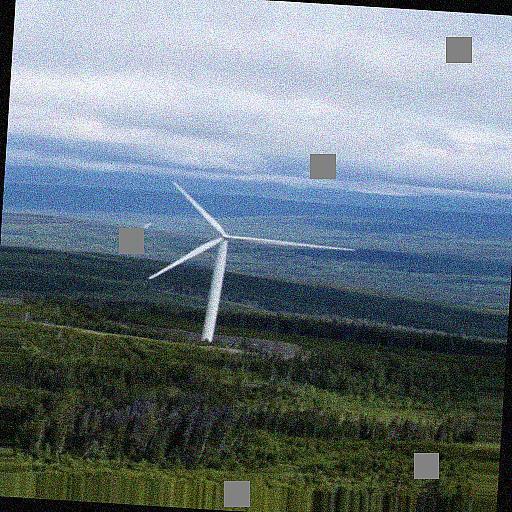wind turbine: (144, 181, 356, 347)
